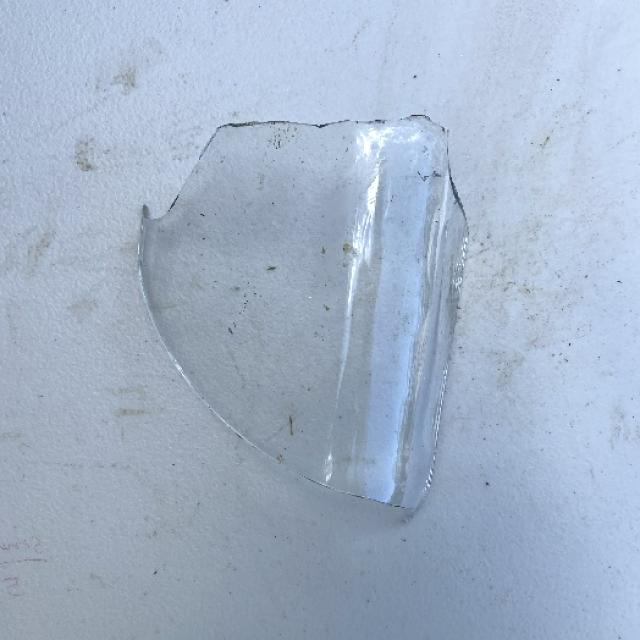inorganic: (108, 88, 518, 569)
